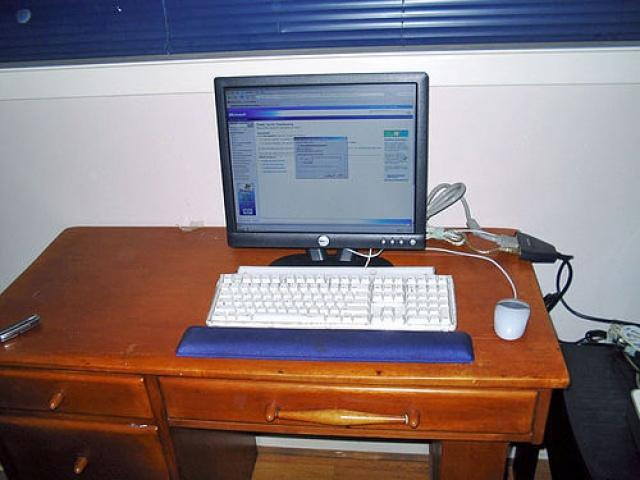AIO PC-Monitor-TV: (212, 70, 428, 251)
Meja: (0, 223, 570, 444)
